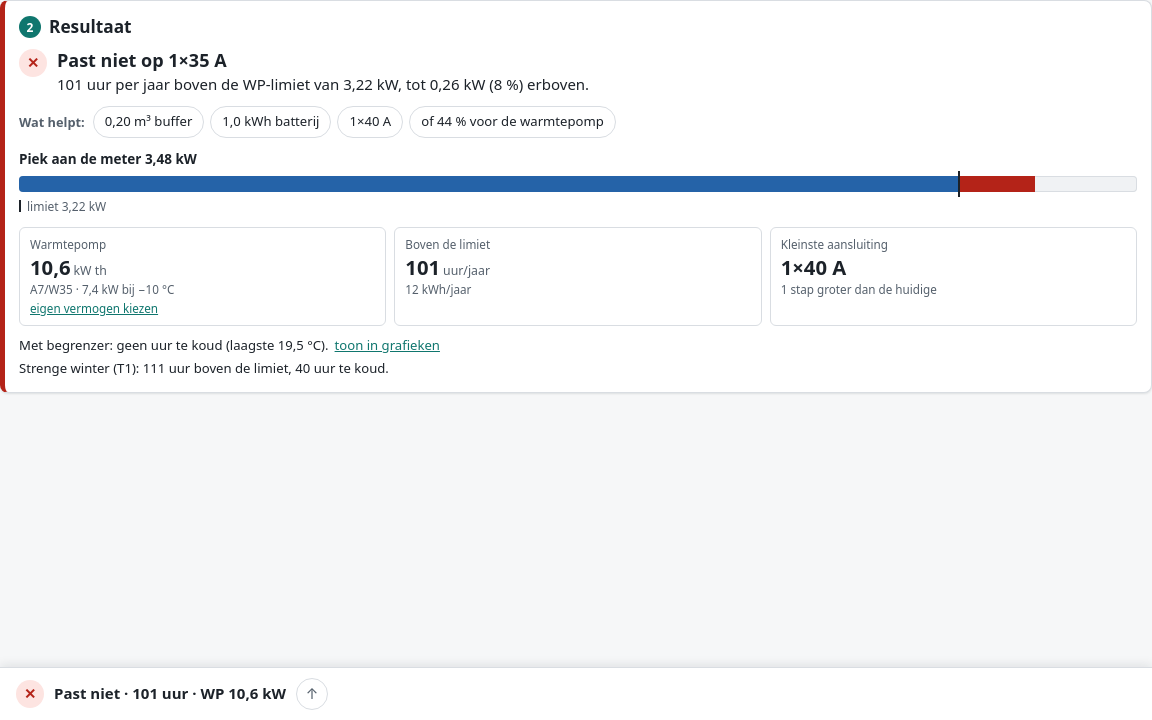
Mini-oordeel (vaste balk onderaan) › alleen zichtbaar als de kop van het oordeel uit beeld is; knop terug naar H2 "Resultaat"
Step 1. Click the button with aria-label "Past niet · 101 uur · WP 10,6 kW. Naar resultaat" → (170, 693), box [16,668,1136,719]
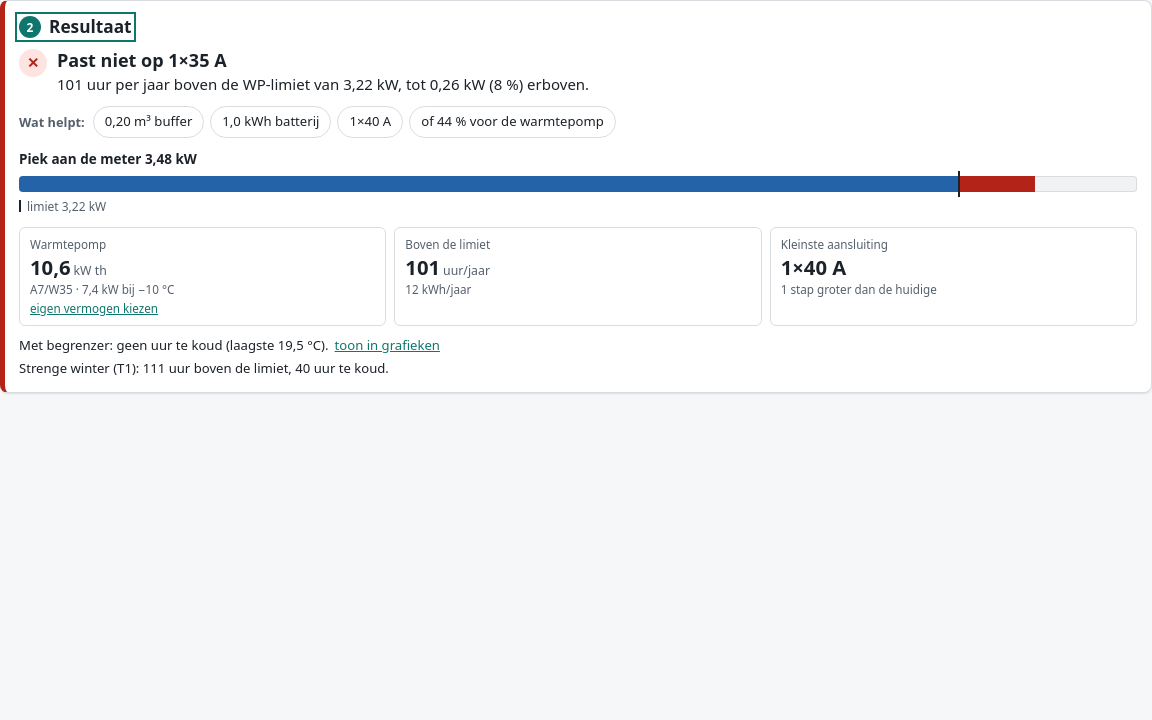
Check: the element with test id "mini-verdict" is gone
